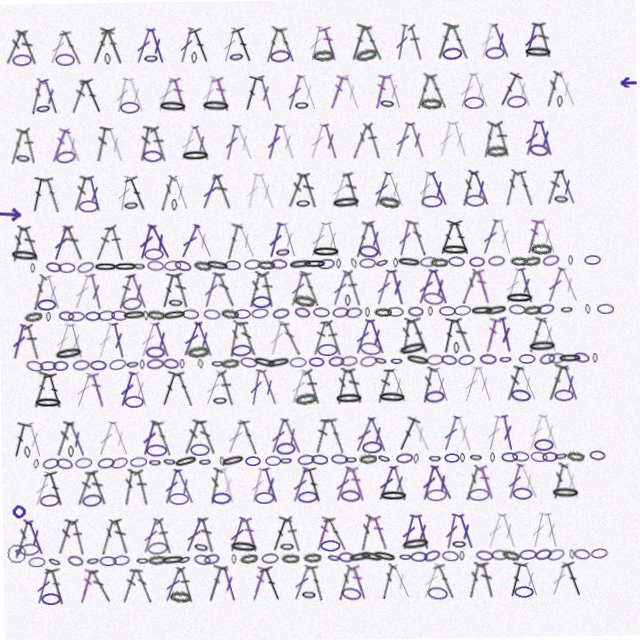chain: (397, 341, 428, 359), (53, 342, 84, 358), (10, 244, 41, 259), (397, 538, 428, 553), (225, 539, 256, 553), (333, 196, 363, 210), (251, 354, 277, 370), (358, 47, 382, 64), (527, 49, 557, 62), (161, 98, 191, 111), (204, 98, 234, 111), (527, 343, 557, 356), (404, 354, 430, 369), (376, 392, 406, 405), (171, 452, 197, 467), (218, 452, 244, 467), (548, 490, 578, 503), (355, 550, 381, 565), (368, 550, 394, 565), (205, 257, 231, 271), (483, 306, 509, 320), (265, 355, 291, 369), (183, 148, 213, 160), (312, 246, 342, 258), (441, 246, 471, 258), (505, 295, 535, 307), (32, 393, 62, 405), (333, 393, 363, 405), (376, 491, 406, 503), (293, 293, 316, 308), (293, 391, 316, 406), (397, 257, 423, 270), (344, 551, 370, 564), (359, 342, 381, 357), (379, 196, 402, 210), (186, 343, 209, 357), (58, 146, 79, 161), (531, 146, 552, 161), (423, 293, 444, 308), (509, 391, 530, 406), (337, 587, 358, 602), (289, 258, 314, 270), (162, 307, 187, 319), (157, 552, 182, 564), (359, 245, 380, 259), (122, 294, 143, 308), (79, 490, 100, 504), (144, 539, 165, 553), (423, 588, 444, 602), (316, 49, 338, 62), (488, 147, 510, 160), (165, 588, 187, 601), (419, 550, 438, 565), (122, 307, 147, 318), (189, 538, 207, 553), (77, 257, 96, 271), (174, 257, 193, 271), (53, 453, 72, 467), (108, 453, 127, 467), (498, 551, 517, 565), (543, 551, 562, 565), (423, 99, 445, 111), (531, 246, 553, 258), (274, 49, 294, 62), (446, 49, 466, 62), (489, 49, 509, 62), (510, 98, 530, 111), (231, 343, 251, 356), (424, 392, 444, 405), (37, 490, 57, 503), (338, 490, 358, 503), (510, 490, 530, 503), (16, 539, 36, 552), (423, 197, 444, 209), (25, 355, 43, 369), (538, 355, 556, 369), (144, 442, 165, 454), (466, 491, 487, 503), (94, 259, 119, 269), (114, 259, 139, 269), (303, 259, 328, 269), (470, 308, 495, 318), (557, 357, 582, 367), (24, 306, 43, 319), (236, 551, 255, 564), (16, 50, 36, 62), (59, 50, 79, 62), (123, 99, 143, 111), (467, 99, 487, 111), (145, 148, 165, 160), (80, 197, 100, 209), (467, 197, 487, 209), (145, 246, 165, 258), (37, 295, 57, 307), (252, 295, 272, 307), (145, 344, 165, 356), (317, 344, 337, 356), (123, 393, 143, 405), (553, 393, 573, 405), (188, 442, 208, 454), (274, 442, 294, 454), (360, 442, 380, 454), (532, 442, 552, 454), (166, 491, 186, 503), (209, 491, 229, 503), (252, 491, 272, 503), (295, 491, 315, 503), (424, 491, 444, 503), (317, 540, 337, 552), (37, 589, 57, 601), (510, 589, 530, 601), (17, 147, 34, 161), (543, 257, 561, 270), (537, 306, 555, 319), (108, 355, 126, 368), (239, 355, 257, 368), (572, 355, 590, 368), (40, 453, 58, 466), (63, 551, 81, 564), (531, 551, 549, 564), (194, 258, 213, 270), (523, 258, 542, 270), (523, 307, 542, 319), (220, 356, 239, 368), (564, 454, 583, 466), (43, 551, 59, 565), (232, 49, 249, 62), (38, 98, 55, 111), (382, 98, 399, 111), (46, 257, 63, 270), (294, 306, 311, 319), (200, 551, 217, 564), (318, 258, 336, 270), (203, 307, 221, 319), (272, 307, 290, 319), (345, 307, 363, 319), (359, 356, 377, 368), (457, 356, 475, 368), (95, 454, 113, 466), (528, 454, 546, 466), (190, 552, 208, 564), (438, 552, 456, 564), (472, 552, 490, 564), (144, 552, 163, 563), (125, 196, 141, 209), (555, 196, 571, 209), (276, 245, 292, 258), (375, 257, 391, 270), (168, 294, 184, 307), (372, 355, 388, 368), (374, 453, 390, 466), (173, 551, 189, 564), (297, 588, 313, 601), (440, 356, 457, 368), (570, 552, 587, 564), (147, 307, 165, 318), (221, 307, 239, 318), (251, 307, 269, 318), (332, 307, 350, 318), (295, 454, 313, 465), (357, 454, 375, 465), (109, 552, 127, 563), (300, 552, 318, 563), (587, 552, 605, 563), (147, 50, 163, 62), (297, 99, 313, 111), (297, 197, 313, 209), (211, 393, 227, 405), (276, 540, 292, 552), (448, 540, 464, 552), (148, 258, 165, 269), (165, 258, 182, 269), (245, 258, 262, 269), (271, 258, 288, 269), (421, 258, 438, 269), (449, 258, 466, 269), (489, 258, 506, 269), (58, 307, 75, 318), (98, 307, 115, 318), (111, 307, 128, 318), (182, 307, 199, 318), (313, 307, 330, 318), (454, 307, 471, 318), (509, 307, 526, 318), (72, 356, 89, 367), (146, 356, 163, 367), (162, 356, 179, 367), (340, 356, 357, 367), (426, 356, 443, 367), (479, 356, 496, 367), (548, 356, 565, 367), (73, 454, 90, 465), (128, 454, 145, 465), (309, 454, 326, 465), (329, 454, 346, 465), (394, 454, 411, 465), (510, 454, 527, 465), (587, 454, 604, 465), (258, 552, 275, 563), (488, 552, 505, 563), (516, 552, 533, 563), (258, 259, 276, 269), (431, 259, 449, 269), (511, 259, 529, 269), (374, 308, 392, 318), (278, 553, 296, 563), (323, 552, 338, 564), (328, 356, 344, 367), (335, 552, 351, 563), (59, 259, 76, 269), (225, 259, 242, 269), (360, 259, 377, 269), (585, 259, 602, 269), (68, 308, 85, 318), (234, 308, 251, 318), (387, 308, 404, 318), (439, 308, 456, 318), (597, 308, 614, 318), (39, 357, 56, 367), (89, 357, 106, 367), (289, 357, 306, 367), (518, 357, 535, 367), (499, 455, 516, 465), (25, 553, 42, 563), (96, 553, 113, 563), (407, 553, 424, 563), (160, 454, 175, 465), (82, 552, 97, 563), (470, 259, 486, 269), (85, 308, 101, 318), (408, 308, 424, 318), (52, 357, 68, 367), (308, 357, 324, 367), (243, 455, 259, 465), (263, 455, 279, 465), (442, 455, 458, 465), (540, 455, 556, 465), (133, 258, 147, 269), (125, 356, 139, 367), (467, 454, 481, 465), (552, 454, 566, 465), (560, 308, 574, 318), (210, 357, 224, 367), (389, 357, 403, 367), (498, 357, 512, 367), (146, 455, 160, 465), (196, 455, 210, 465), (277, 455, 291, 465), (342, 455, 356, 465), (426, 455, 440, 465), (132, 553, 146, 563), (395, 553, 409, 563), (351, 258, 359, 269), (108, 50, 115, 62), (22, 442, 29, 454), (195, 50, 201, 62), (560, 99, 566, 111), (173, 197, 179, 209), (345, 295, 351, 307), (453, 344, 459, 356), (66, 442, 72, 454), (217, 455, 224, 465), (143, 308, 149, 318), (585, 308, 591, 318), (197, 357, 203, 367), (31, 455, 37, 465), (411, 455, 417, 465), (31, 259, 36, 269), (337, 259, 342, 269), (394, 259, 399, 269), (569, 259, 574, 269), (46, 308, 51, 318), (365, 308, 370, 318), (428, 308, 433, 318), (139, 357, 144, 367), (179, 357, 184, 367), (592, 357, 597, 367), (458, 455, 463, 465), (488, 455, 493, 465), (228, 553, 233, 563), (456, 553, 461, 563), (566, 553, 571, 563)
double: (498, 74, 527, 112), (91, 24, 119, 63), (406, 318, 434, 357), (392, 417, 420, 455), (105, 24, 132, 63), (542, 367, 569, 406), (83, 74, 110, 112), (126, 172, 153, 210), (320, 515, 347, 553), (255, 564, 282, 602), (350, 24, 376, 63), (436, 24, 462, 63), (27, 367, 53, 406), (199, 563, 225, 602), (63, 25, 89, 63), (192, 25, 218, 63), (235, 25, 261, 63), (436, 221, 462, 259), (450, 221, 476, 259), (264, 515, 290, 553), (557, 564, 583, 602), (149, 221, 175, 258), (178, 221, 204, 258), (364, 25, 389, 63), (428, 74, 453, 112), (156, 368, 181, 406), (41, 466, 66, 504), (41, 564, 66, 602), (6, 25, 31, 62), (192, 221, 217, 258), (350, 417, 375, 454), (407, 417, 432, 454), (428, 466, 453, 503), (385, 564, 410, 601), (451, 25, 475, 63), (243, 74, 267, 112), (415, 74, 439, 112), (7, 123, 31, 161), (351, 221, 375, 259), (157, 270, 181, 308), (523, 319, 547, 357), (42, 368, 66, 406), (171, 368, 195, 406), (300, 466, 324, 504), (429, 564, 453, 602), (21, 25, 45, 62), (50, 25, 74, 62), (157, 74, 181, 111), (558, 74, 582, 111), (50, 123, 74, 160), (200, 172, 224, 209), (286, 172, 310, 209), (329, 172, 353, 209), (429, 172, 453, 209), (64, 221, 88, 258), (236, 221, 260, 258), (558, 270, 582, 307), (179, 319, 203, 356), (451, 319, 475, 356), (200, 368, 224, 405), (515, 368, 539, 405), (222, 417, 246, 454), (279, 417, 303, 454), (171, 466, 195, 503), (372, 466, 396, 503), (515, 466, 539, 503), (179, 515, 203, 552), (157, 564, 181, 601), (286, 564, 310, 601), (415, 564, 439, 601), (265, 25, 288, 63), (279, 25, 302, 63), (222, 221, 245, 259), (300, 270, 323, 308), (7, 417, 30, 455), (150, 417, 173, 455), (236, 417, 259, 455), (501, 564, 524, 602), (136, 25, 159, 62), (494, 25, 517, 62), (329, 74, 352, 111), (515, 74, 538, 111), (64, 123, 87, 160), (107, 123, 130, 160), (179, 123, 202, 160), (193, 123, 216, 160), (236, 123, 259, 160), (394, 123, 417, 160), (171, 172, 194, 209), (214, 172, 237, 209), (372, 172, 395, 209), (386, 172, 409, 209), (472, 172, 495, 209), (558, 172, 581, 209), (21, 221, 44, 258), (308, 221, 331, 258), (480, 221, 503, 258), (71, 270, 94, 307), (128, 270, 151, 307), (329, 270, 352, 307), (415, 270, 438, 307), (544, 270, 567, 307), (136, 319, 159, 356), (193, 319, 216, 356), (351, 319, 374, 356), (71, 368, 94, 405), (257, 368, 280, 405), (286, 368, 309, 405), (386, 368, 409, 405), (64, 417, 87, 454), (93, 417, 116, 454), (107, 417, 130, 454), (179, 417, 202, 454), (265, 417, 288, 454), (365, 417, 388, 454), (523, 417, 546, 454), (28, 466, 51, 503), (85, 466, 108, 503), (286, 466, 309, 503), (329, 466, 352, 503), (21, 515, 44, 552), (136, 515, 159, 552), (544, 564, 567, 601), (29, 172, 51, 210), (516, 172, 538, 210), (438, 319, 460, 357), (323, 417, 345, 455), (85, 565, 108, 601), (43, 74, 65, 111), (129, 74, 151, 111), (287, 74, 309, 111), (301, 74, 323, 111), (344, 74, 366, 111), (459, 74, 481, 111), (473, 74, 495, 111), (309, 123, 331, 160), (409, 123, 431, 160), (258, 172, 280, 209), (301, 172, 323, 209), (51, 221, 73, 258), (538, 221, 560, 258), (287, 270, 309, 307), (373, 270, 395, 307), (430, 270, 452, 307), (502, 270, 524, 307), (51, 319, 73, 356), (94, 319, 116, 356), (151, 319, 173, 356), (366, 319, 388, 356), (538, 319, 560, 356), (115, 368, 137, 405), (459, 368, 481, 405), (502, 368, 524, 405), (559, 368, 581, 405), (51, 417, 73, 454), (438, 417, 460, 454), (452, 417, 474, 454), (538, 417, 560, 454), (158, 466, 180, 503), (344, 466, 366, 503), (473, 466, 495, 503), (8, 515, 30, 552), (51, 515, 73, 552), (223, 515, 245, 552), (309, 515, 331, 552), (366, 515, 388, 552), (452, 515, 474, 552), (481, 515, 503, 552), (495, 515, 517, 552), (244, 564, 266, 601), (344, 564, 366, 601), (516, 564, 538, 601), (481, 123, 502, 161), (43, 172, 64, 210), (352, 124, 374, 160), (459, 271, 481, 307), (280, 320, 302, 356), (151, 25, 172, 62), (180, 25, 201, 62), (223, 25, 244, 62), (323, 25, 344, 62), (481, 25, 502, 62), (72, 74, 93, 111), (172, 74, 193, 111), (201, 74, 222, 111), (215, 74, 236, 111), (387, 74, 408, 111), (545, 74, 566, 111), (266, 123, 287, 160), (280, 123, 301, 160), (323, 123, 344, 160), (438, 123, 459, 160), (452, 123, 473, 160), (524, 123, 545, 160), (538, 123, 559, 160), (72, 172, 93, 209), (344, 172, 365, 209), (459, 172, 480, 209), (137, 221, 158, 258), (266, 221, 287, 258), (280, 221, 301, 258), (524, 221, 545, 258), (43, 270, 64, 307), (172, 270, 193, 307), (201, 270, 222, 307), (473, 270, 494, 307), (8, 319, 29, 356), (266, 319, 287, 356), (481, 319, 502, 356), (86, 368, 107, 405), (129, 368, 150, 405), (344, 368, 365, 405), (430, 368, 451, 405), (473, 368, 494, 405), (137, 417, 158, 454), (72, 466, 93, 503), (258, 466, 279, 503), (387, 466, 408, 503), (416, 466, 437, 503), (502, 466, 523, 503), (559, 466, 580, 503), (108, 515, 129, 552), (194, 515, 215, 552), (237, 515, 258, 552), (395, 515, 416, 552), (29, 564, 50, 601), (72, 564, 93, 601), (215, 564, 236, 601), (302, 564, 322, 602), (525, 25, 545, 62), (539, 25, 559, 62), (259, 74, 279, 111), (374, 74, 394, 111), (152, 123, 172, 160), (224, 123, 244, 160), (546, 172, 566, 209), (324, 221, 344, 258), (367, 221, 387, 258), (396, 221, 416, 258), (496, 221, 516, 258), (216, 270, 236, 307), (245, 270, 265, 307), (388, 270, 408, 307), (517, 270, 537, 307), (66, 319, 86, 356), (216, 368, 236, 405), (302, 368, 322, 405), (23, 417, 43, 454), (195, 417, 215, 454), (482, 417, 502, 454), (216, 466, 236, 503), (245, 466, 265, 503), (546, 466, 566, 503), (410, 515, 430, 552), (525, 515, 545, 552), (116, 564, 136, 601), (460, 564, 480, 601), (474, 564, 494, 601), (159, 173, 179, 209), (95, 222, 115, 258), (324, 320, 344, 356), (460, 467, 480, 503), (130, 565, 150, 601), (331, 565, 351, 601), (310, 25, 329, 62), (116, 74, 135, 111), (95, 123, 114, 160), (367, 123, 386, 160), (496, 123, 515, 160), (87, 172, 106, 209), (245, 172, 264, 209), (9, 221, 28, 258), (109, 221, 128, 258), (30, 270, 49, 307), (87, 270, 106, 307), (345, 270, 364, 307), (23, 319, 42, 356), (109, 319, 128, 356), (238, 319, 257, 356), (331, 368, 350, 405), (374, 368, 393, 405), (417, 368, 436, 405), (152, 515, 171, 552), (281, 515, 300, 552), (353, 515, 372, 552), (439, 515, 458, 552), (539, 515, 558, 552), (173, 564, 192, 601), (95, 516, 114, 552), (397, 25, 415, 62), (411, 25, 429, 62), (31, 74, 49, 111), (139, 123, 157, 160), (117, 172, 135, 209), (418, 172, 436, 209), (504, 172, 522, 209), (411, 221, 429, 258), (117, 270, 135, 307), (311, 319, 329, 356), (497, 319, 515, 356), (246, 368, 264, 405), (311, 417, 329, 454), (497, 417, 515, 454), (117, 466, 135, 503), (131, 466, 149, 503), (203, 466, 221, 503), (375, 564, 393, 601), (24, 123, 41, 160), (260, 270, 277, 307), (397, 319, 414, 356), (67, 515, 84, 552), (226, 319, 242, 356)
noise: (1, 537, 26, 562), (0, 200, 25, 218), (9, 500, 24, 515), (621, 82, 640, 92)
